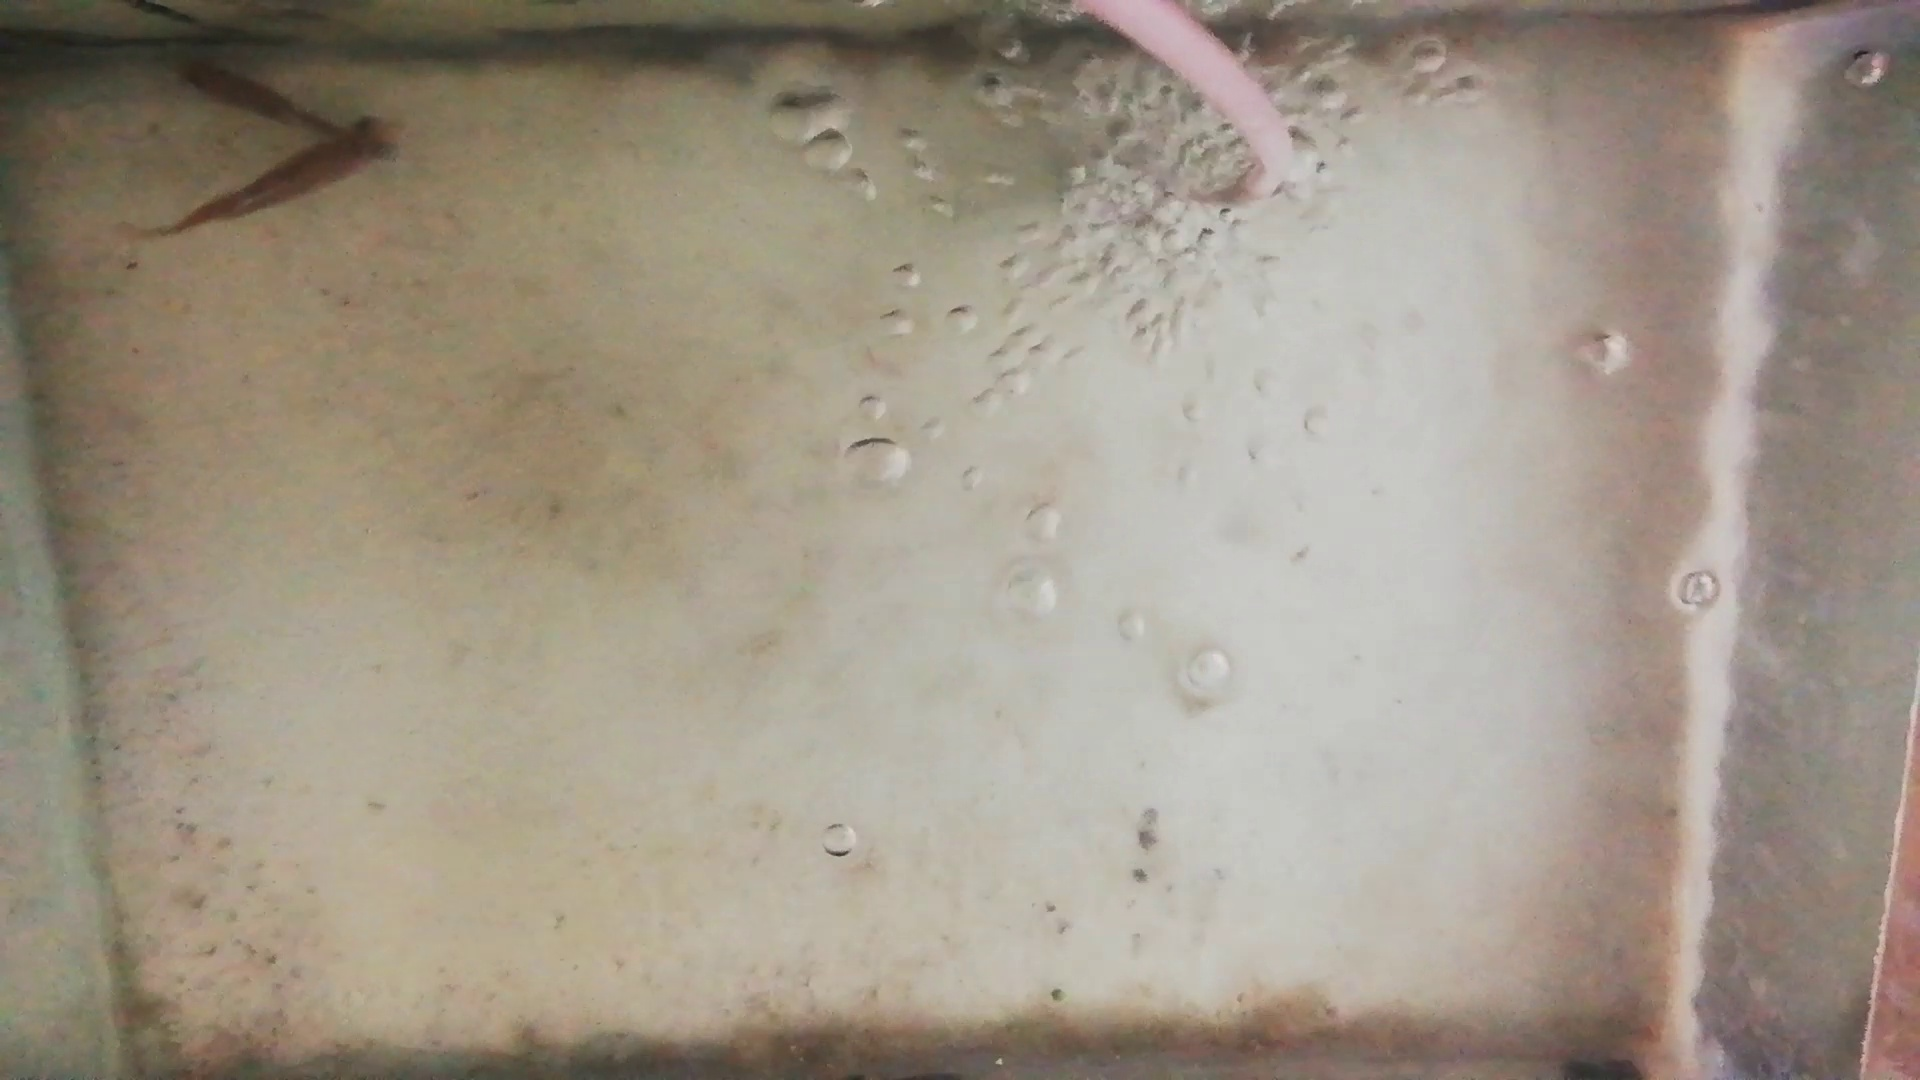fish: (179, 115, 405, 236), (161, 51, 334, 135)
